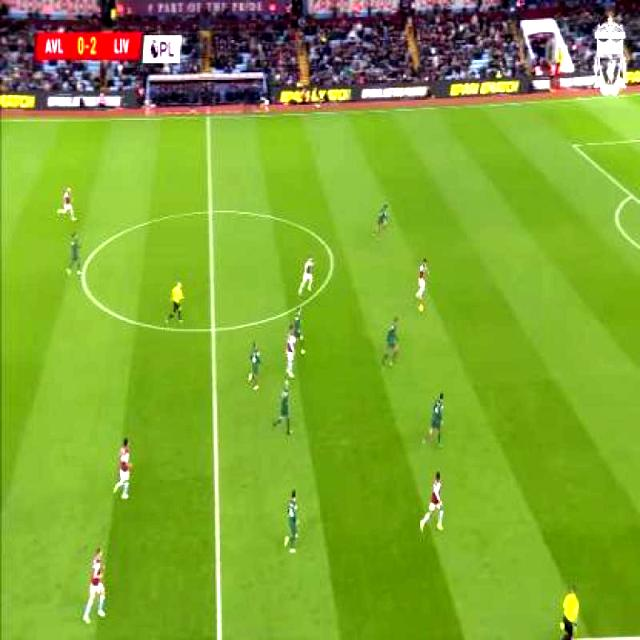bigarea_top_inner: (568, 128, 582, 162)
halfcircle_bottom: (198, 311, 225, 349)
halfcircle_top: (198, 198, 225, 232)
midline_top_intersection: (198, 98, 220, 136)
top_arc_area_intersection: (623, 178, 640, 210)
